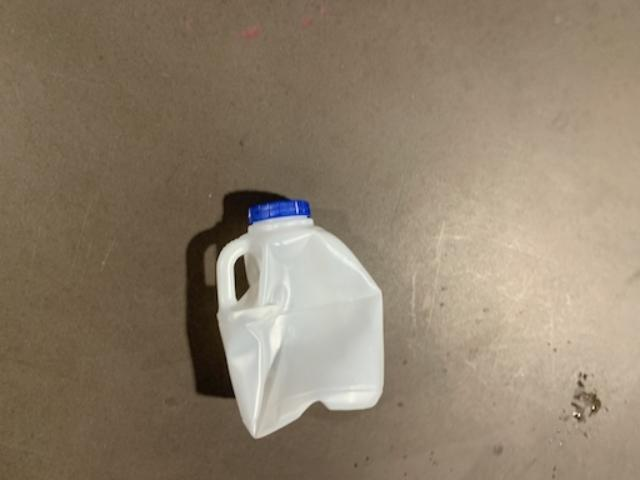plastic: (216, 214, 381, 436)
